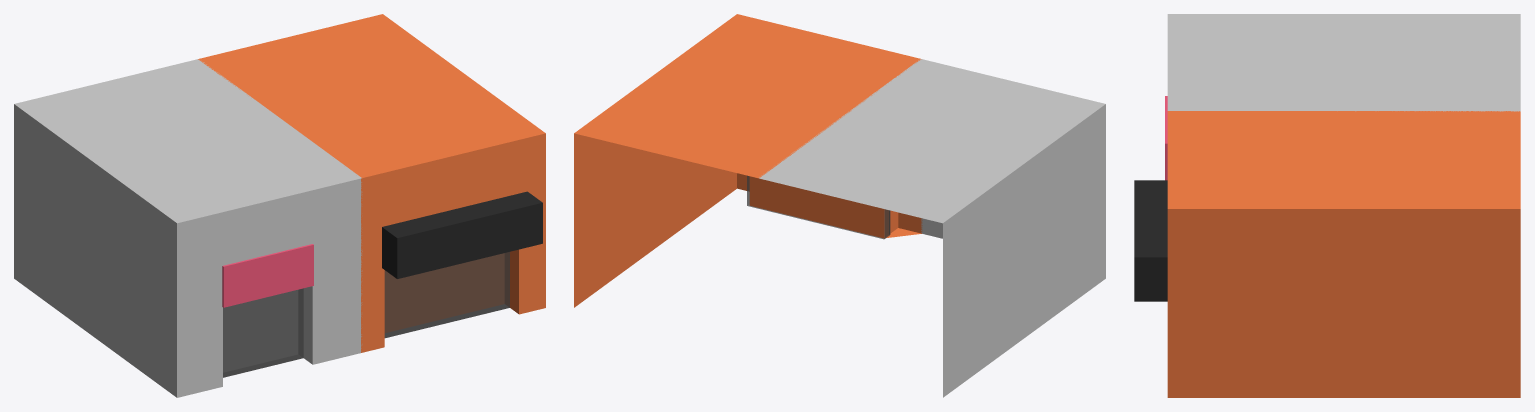
File: edificio 2.fbx
The picture shows the model from 3 angles, left to right: view 1: azimuth 30°, elevation 25°; view 2: azimuth 150°, elevation 25°; view 3: azimuth 270°, elevation 25°; orthographic projection. The views are drawn at different scales.
Parts seen in each view (by area): view 1: Local-2, Local-1, Ventanas y Puertas, Cartel-1, Cartel-2; view 2: Local-2, Local-1, Ventanas y Puertas; view 3: Local-1, Local-2, Cartel-1.
Part boxes in pixels (<box>): Local-2: <box>14,59,362,397</box>; Local-1: <box>198,14,545,352</box>; Ventanas y Puertas: <box>223,252,509,377</box>; Cartel-1: <box>382,191,542,278</box>; Cartel-2: <box>222,244,313,307</box>; Local-2: <box>759,59,1105,397</box>; Local-1: <box>574,14,922,307</box>; Ventanas y Puertas: <box>747,175,890,239</box>; Local-1: <box>1167,111,1520,397</box>; Local-2: <box>1167,14,1520,111</box>; Cartel-1: <box>1134,180,1167,301</box>.
Bounding box in the file's own units: 941 × 426 × 788.
